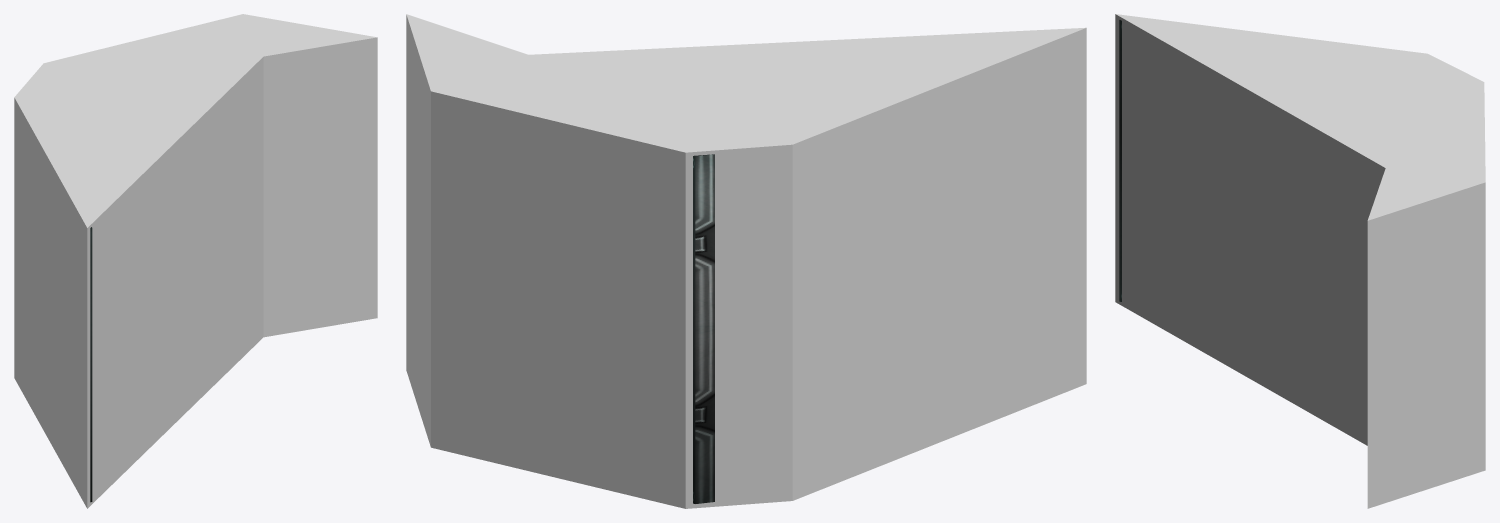
File: Container_Open2.fbx
3 renders of one model, left to right at view 1: azimuth 30°, elevation 25°; view 2: azimuth 150°, elevation 25°; view 3: azimuth 270°, elevation 25°, orthographic. The views are drawn at different scales.
Parts seen in each view (by area): view 1: Open_Container1_CollMesh, Open Container1; view 2: Open_Container1_CollMesh, Open Container1; view 3: Open_Container1_CollMesh, Open Container1.
Boxes of the visible parts, x1,y1,x2,y2 form: Open_Container1_CollMesh: [14, 14, 377, 508]; Open Container1: [90, 227, 92, 502]; Open_Container1_CollMesh: [406, 14, 1086, 508]; Open Container1: [693, 154, 714, 503]; Open_Container1_CollMesh: [1115, 14, 1485, 508]; Open Container1: [1119, 20, 1121, 301].
Bounding box in the file's own units: 361 × 234 × 273.
